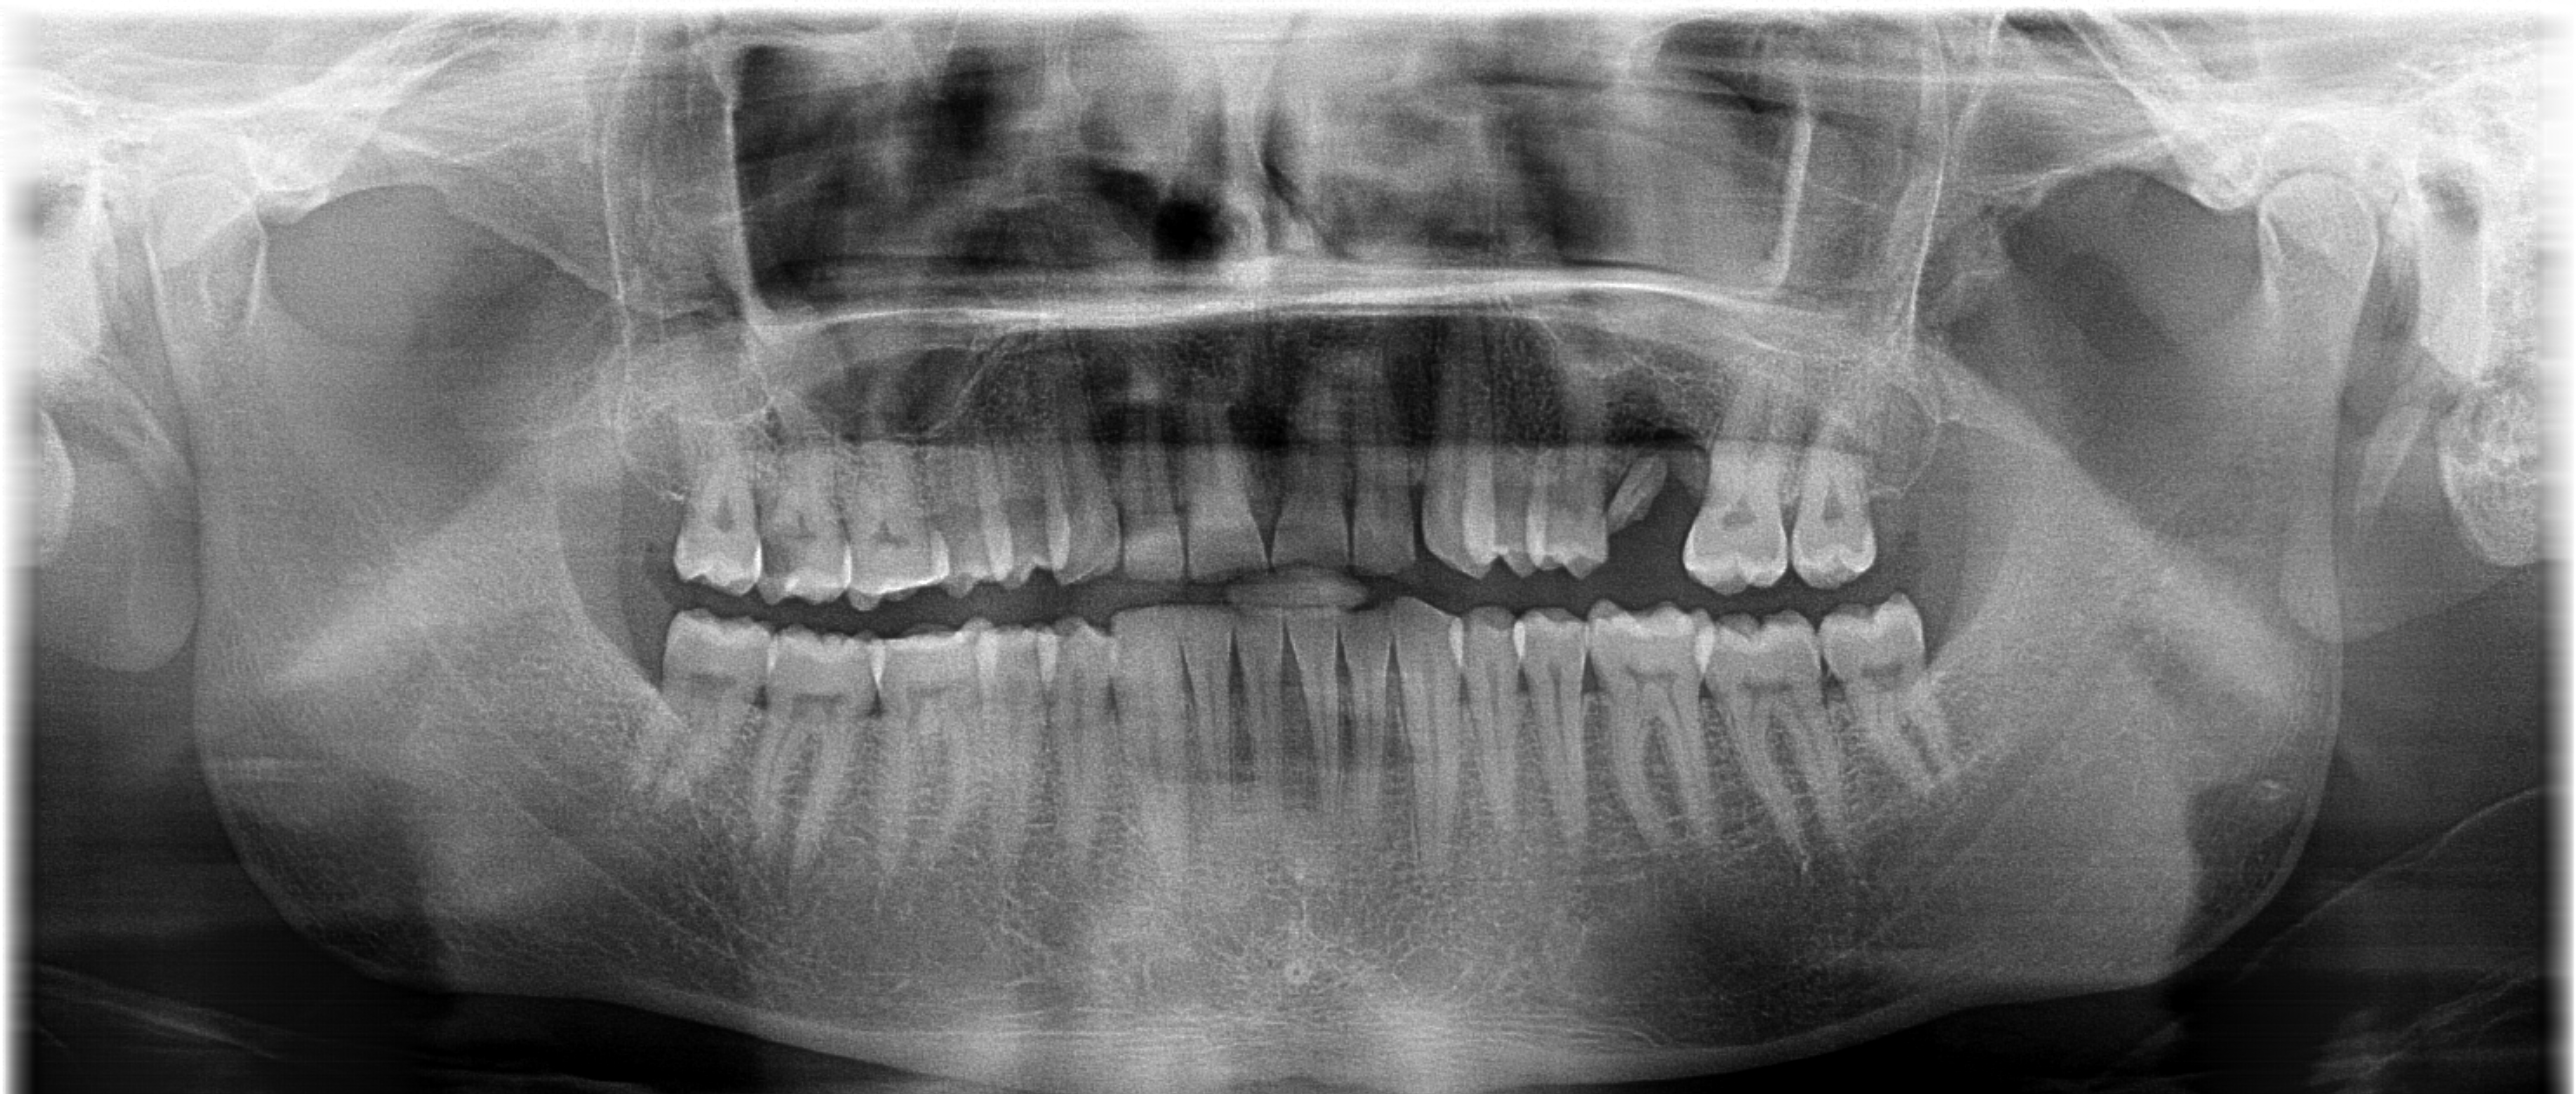cordal: (1802, 590, 1993, 811), (1751, 388, 1942, 609), (616, 593, 789, 802), (637, 411, 810, 619)
resto_radicular: (1590, 422, 1709, 552)
